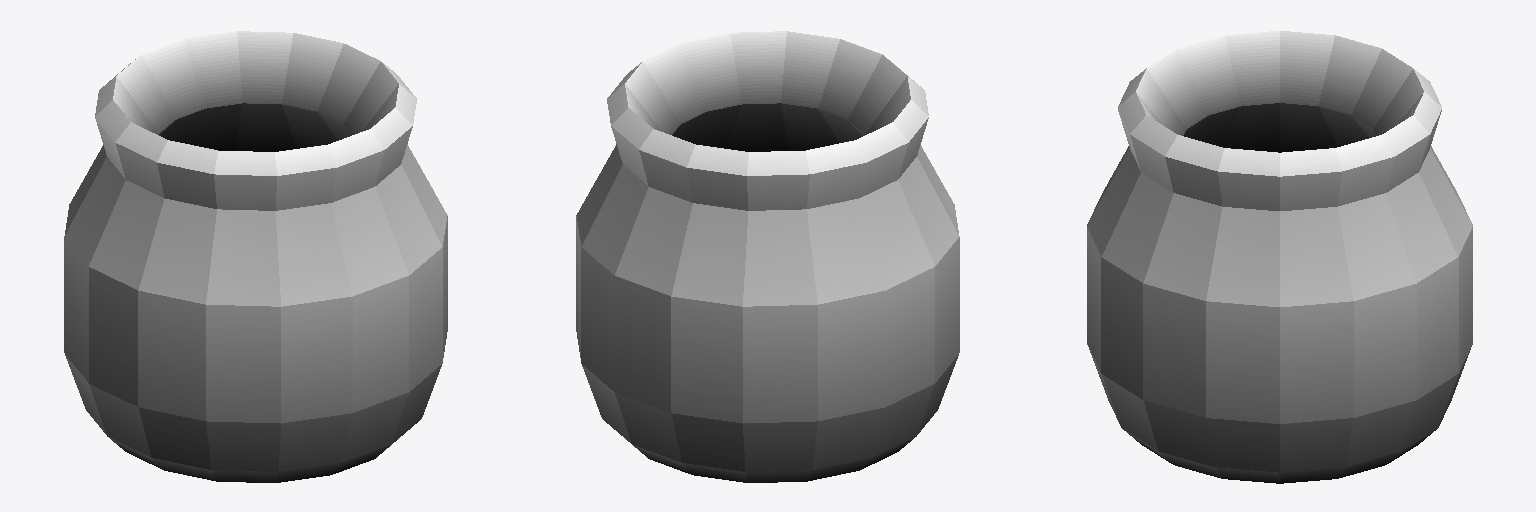
The picture shows the model from 3 angles: view 1: azimuth 30°, elevation 25°; view 2: azimuth 150°, elevation 25°; view 3: azimuth 270°, elevation 25°; orthographic projection.
Visible parts, largest first — view 1: Pot; view 2: Pot; view 3: Pot.
Boxes of the visible parts, box(x1,y1,x2,y2) form: Pot: box(64, 31, 447, 482); Pot: box(576, 31, 959, 482); Pot: box(1087, 31, 1472, 483).
Size of the model in its own units: 2.57 by 2.41 by 2.57.
1 materials, 1 textured.